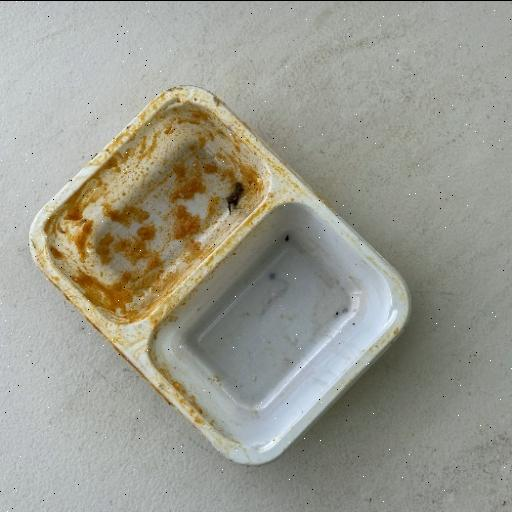Plastic: (26, 83, 414, 467)
